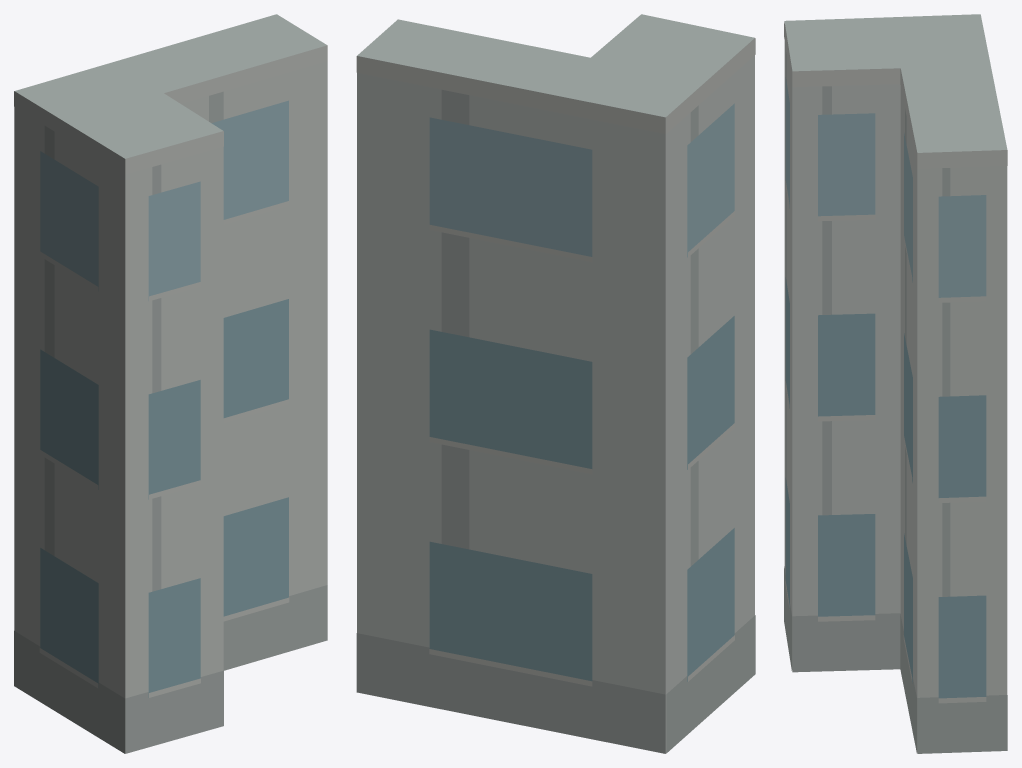
File: survey-upis-32633665.glb
3 renders of one model, left to right at view 1: azimuth 30°, elevation 25°; view 2: azimuth 150°, elevation 25°; view 3: azimuth 270°, elevation 25°, orthographic. The views are drawn at different scales.
Visible parts, largest first — view 1: survey-upis-32633665.tmp; view 2: survey-upis-32633665.tmp; view 3: survey-upis-32633665.tmp.
Boxes of the visible parts, x1,y1,x2,y2 form: survey-upis-32633665.tmp: (14,14,327,753); survey-upis-32633665.tmp: (356,14,755,753); survey-upis-32633665.tmp: (784,14,1007,753).
Size of the model in its own units: 4.55 by 9.15 by 3.09.
